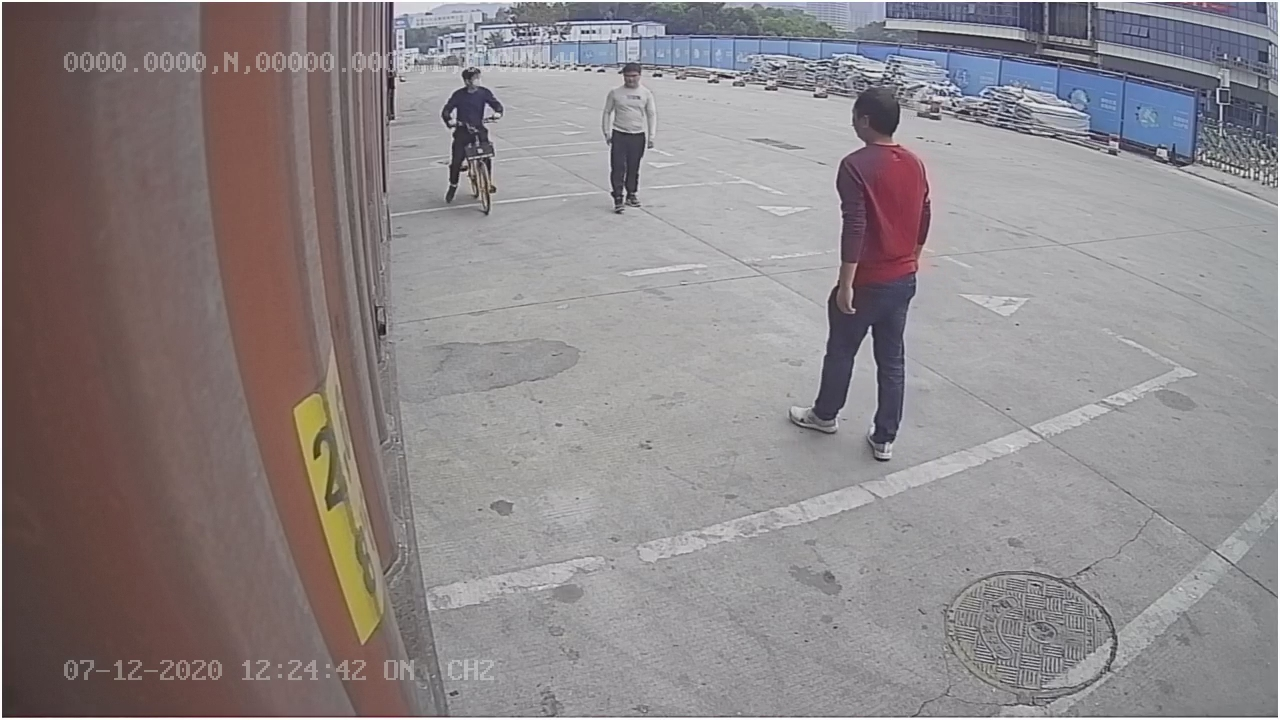person: (783, 84, 940, 465), (596, 58, 659, 219)
